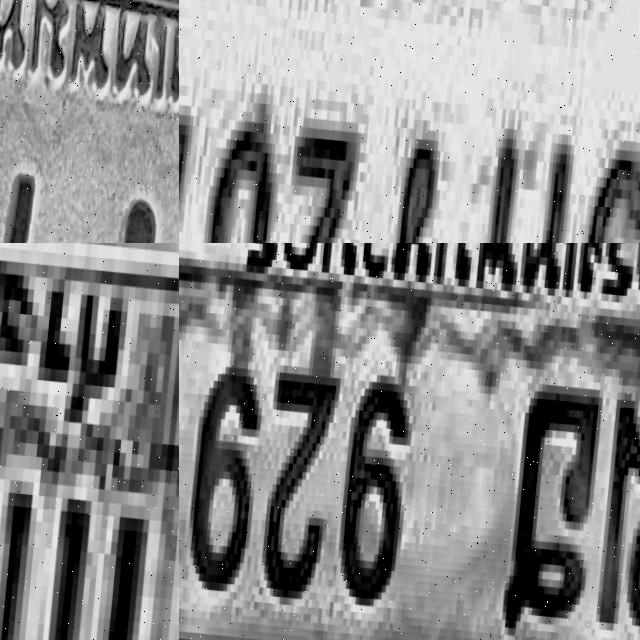license-plate: (179, 243, 640, 640), (179, 0, 640, 243), (0, 243, 179, 640), (0, 0, 179, 243)
